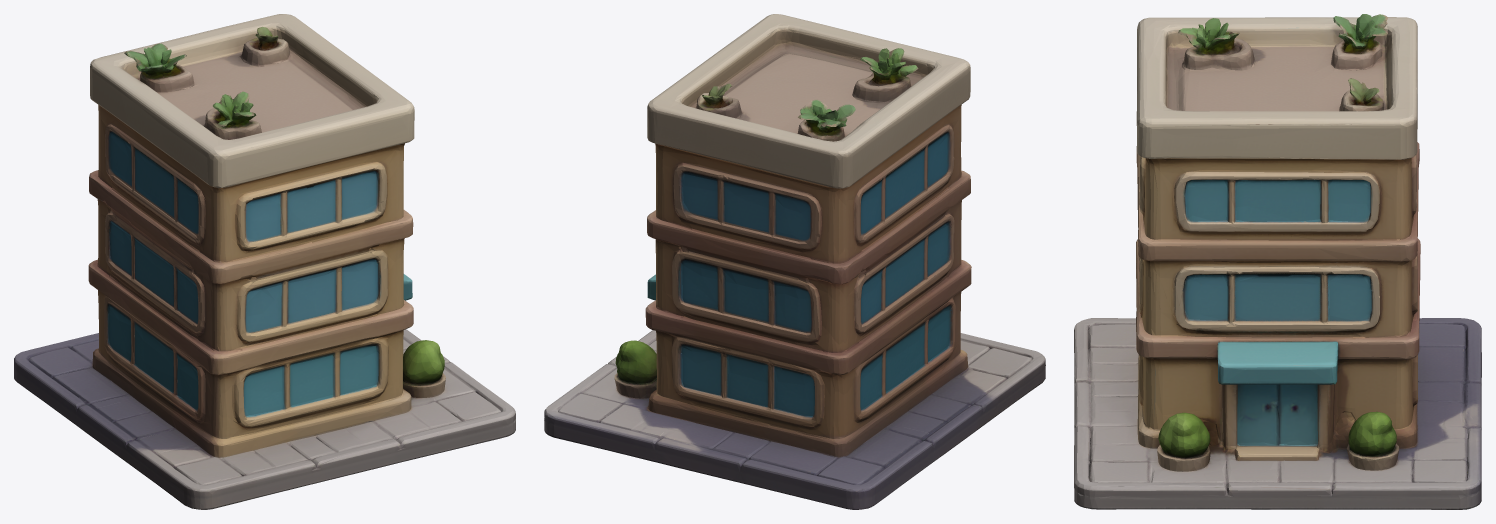
File: edificio_oficina.glb
3 renders of one model, left to right at view 1: azimuth 30°, elevation 25°; view 2: azimuth 150°, elevation 25°; view 3: azimuth 270°, elevation 25°, orthographic. The views are drawn at different scales.
Parts seen in each view (by area): view 1: world; view 2: world; view 3: world.
Boxes of the visible parts, x1=… form: world: x1=14, y1=14, x2=515, y2=509; world: x1=544, y1=14, x2=1045, y2=509; world: x1=1074, y1=14, x2=1481, y2=509.
Bounding box in the file's own units: 0.5983 × 0.5985 × 0.5998.
Materials: 1 (1 with a texture image).
